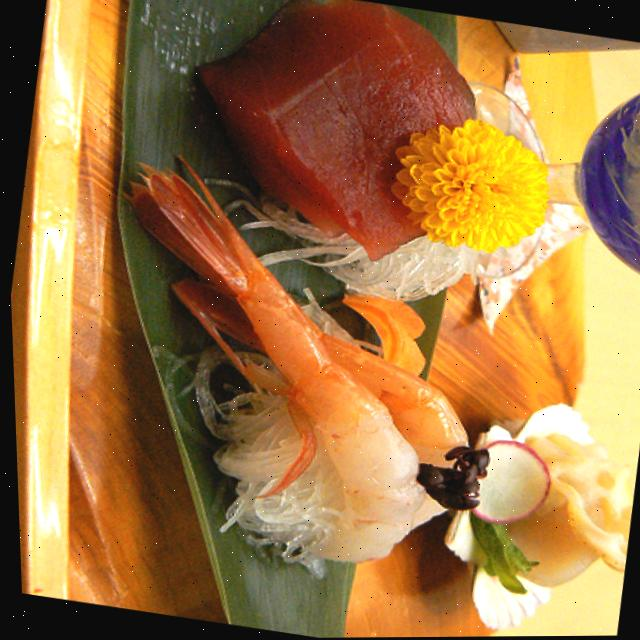刺身生食: (16, 0, 640, 640)
